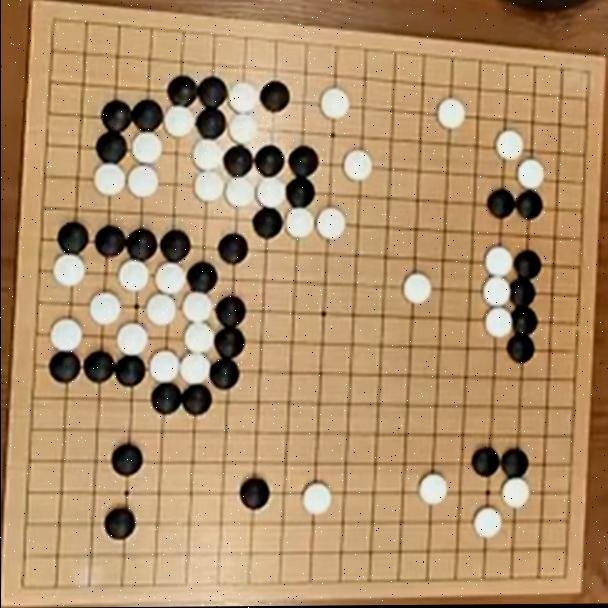corners: (3, 564, 47, 608), (38, 2, 82, 42), (545, 558, 579, 594), (566, 62, 606, 91)
